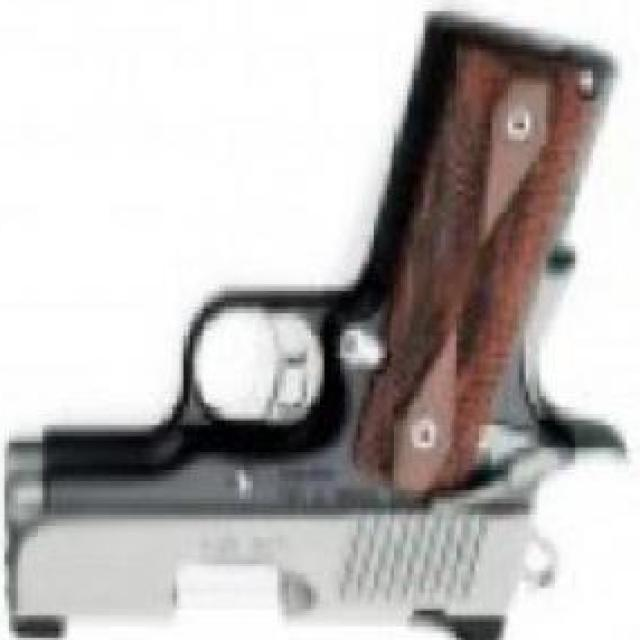pistol: (4, 22, 638, 640)
